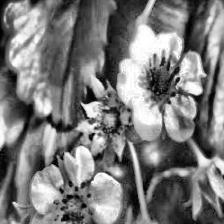Blossom Blight: (142, 48, 183, 112), (49, 177, 95, 224), (92, 93, 130, 142)
